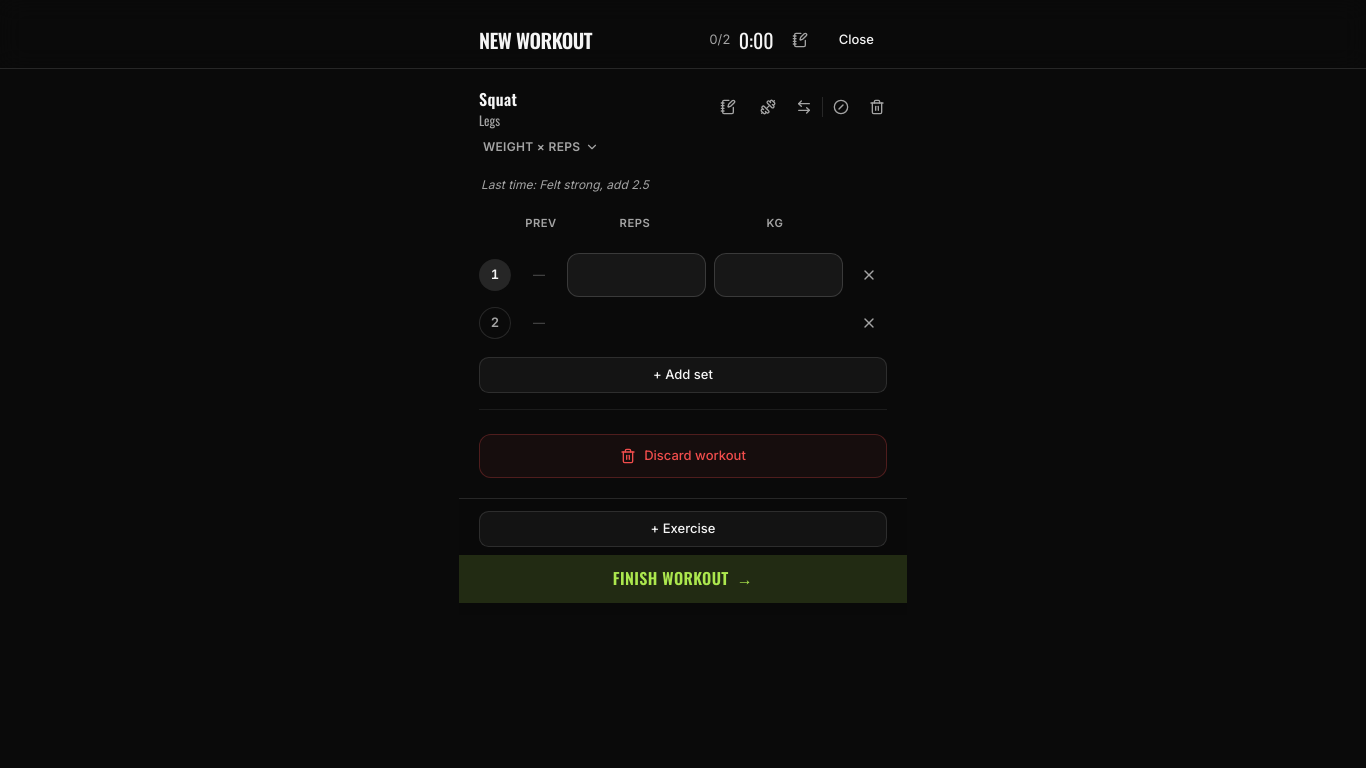
Test: ATTACK: echo tap-to-copy with the editor already open (#211) › the echo persists beside an empty open editor and its tap fills the textarea
Click the button named "Add note for Squat".
click(728, 107)  # box x1=710 y1=89 x2=746 y2=125
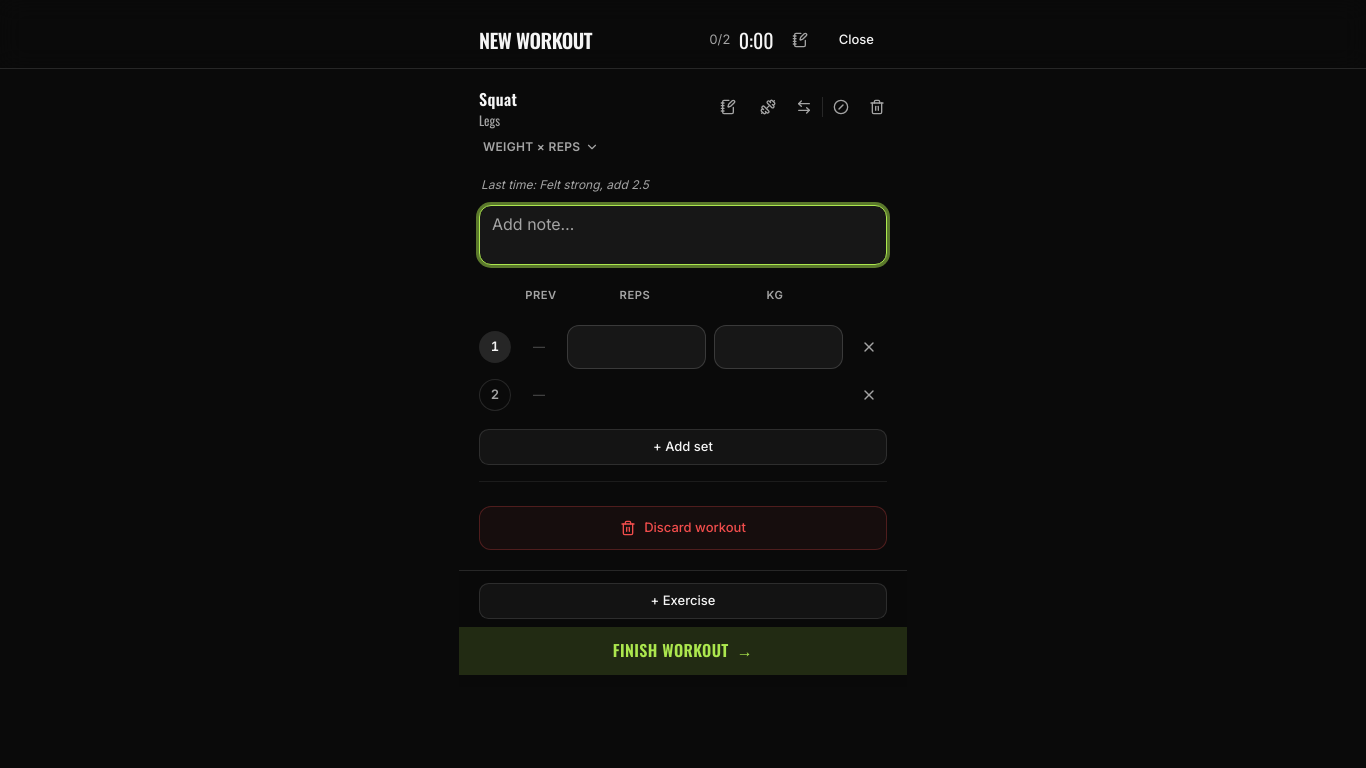
Click the button "Last time: Felt strong, add 2.5".
click(565, 185)  # box x1=479 y1=177 x2=651 y2=193
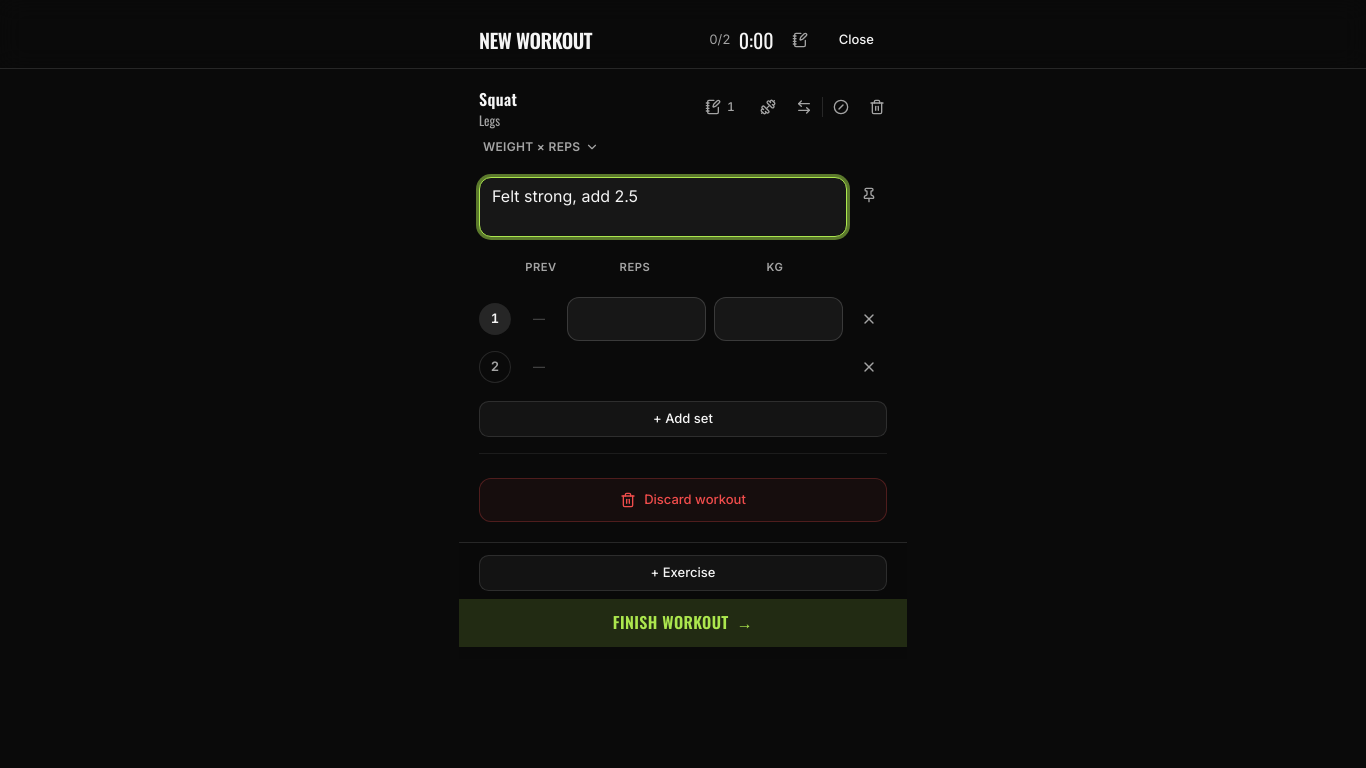
Check: the text box named "Notes for Squat" holds "Felt strong, add 2.5", box x1=479 y1=177 x2=847 y2=237
